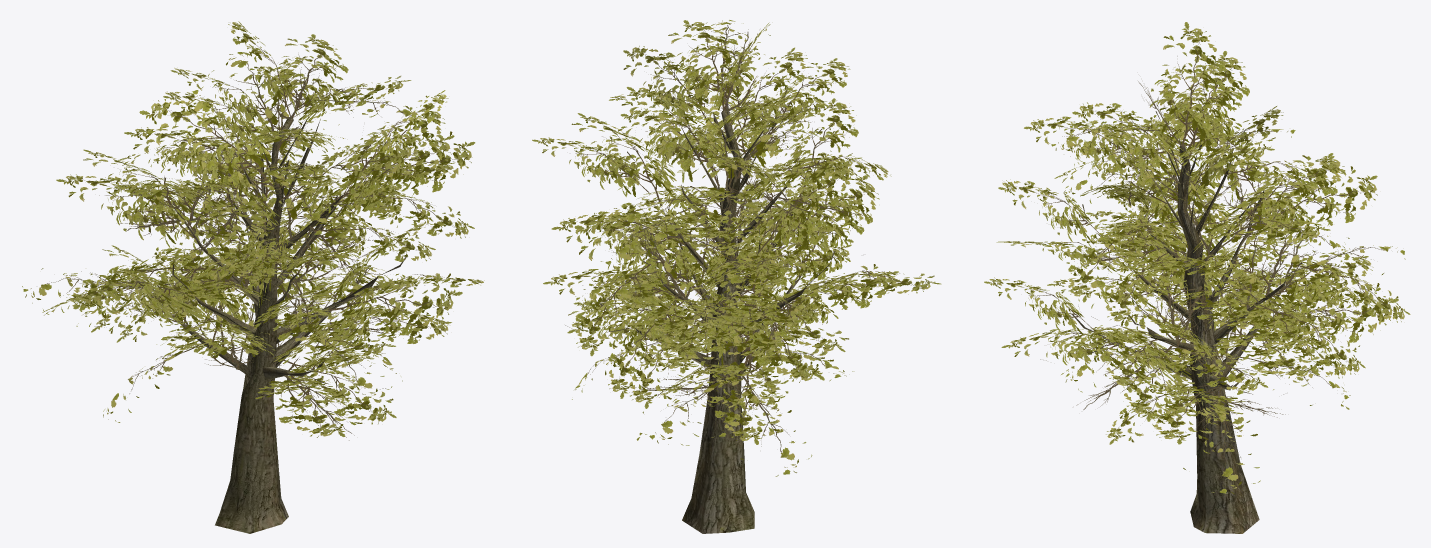
3 renders of one model, left to right at view 1: azimuth 30°, elevation 25°; view 2: azimuth 150°, elevation 25°; view 3: azimuth 270°, elevation 25°, orthographic. The views are drawn at different scales.
Parts seen in each view (by area): view 1: treelarge; view 2: treelarge; view 3: treelarge.
Boxes of the visible parts, bbox=[...] form: treelarge: bbox=[22, 21, 484, 533]; treelarge: bbox=[532, 20, 941, 533]; treelarge: bbox=[984, 22, 1410, 533].
Size of the model in its own units: 10.74 by 13 by 10.62.
Materials: 1 (1 with a texture image).
